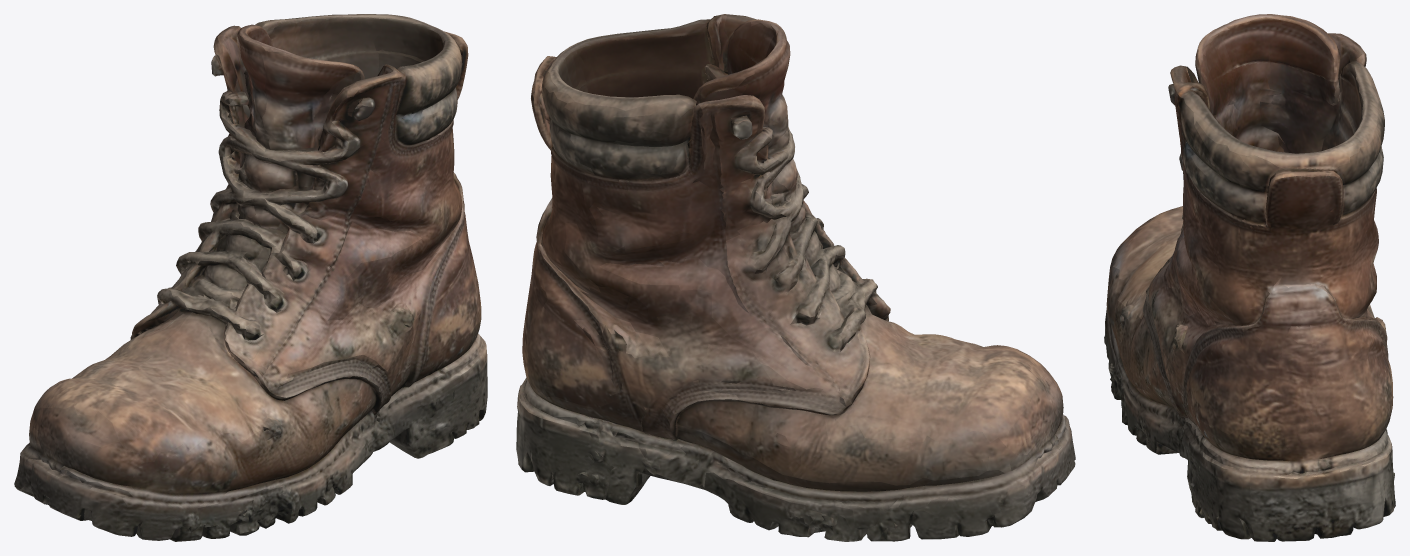
Rendered from muddy-boot.glb.
3 views of the same model, side by side, from view 1: azimuth 30°, elevation 25°; view 2: azimuth 150°, elevation 25°; view 3: azimuth 270°, elevation 25° (orthographic). The views are drawn at different scales.
Visible parts, largest first — view 1: geometry_0; view 2: geometry_0; view 3: geometry_0.
Boxes of the visible parts, x1=… form: geometry_0: x1=14, y1=14, x2=487, y2=541; geometry_0: x1=516, y1=14, x2=1075, y2=541; geometry_0: x1=1104, y1=14, x2=1395, y2=541.
Size of the model in its own units: 0.3 by 0.2609 by 0.1614.
1 material, 1 textured.
